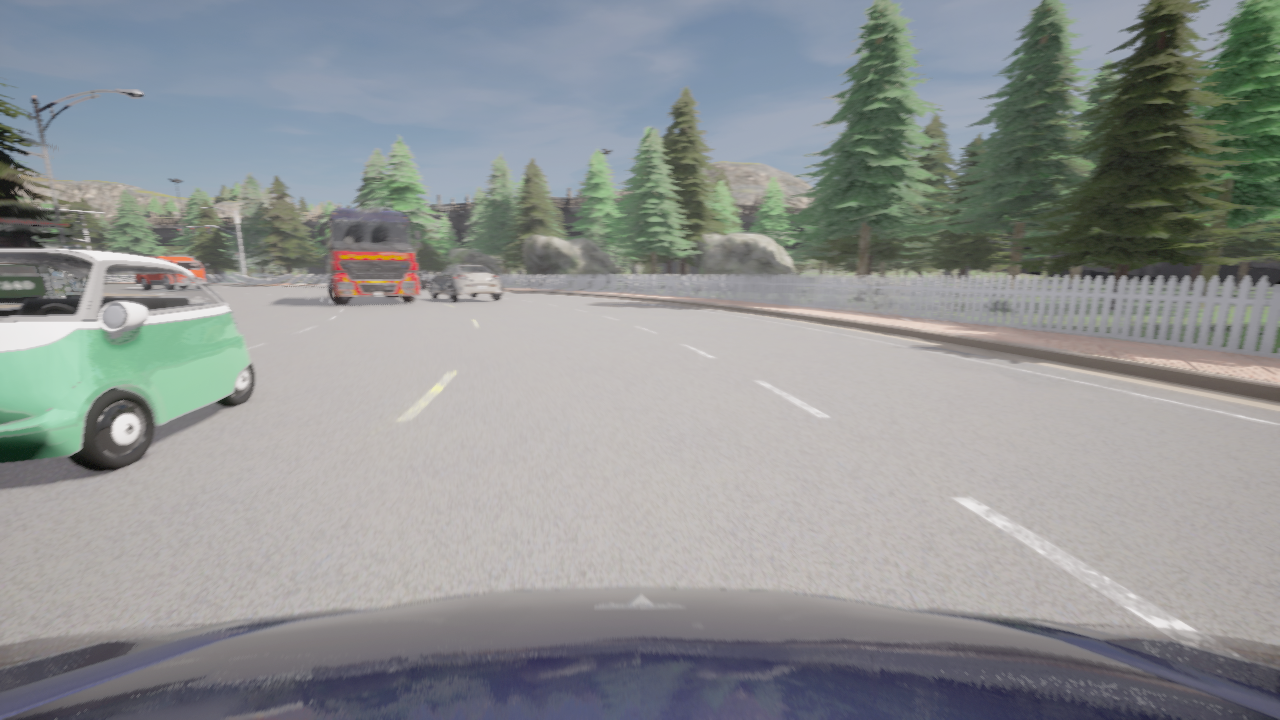cyclist: (0, 588, 1279, 719), (0, 248, 255, 471), (318, 206, 421, 305), (429, 264, 502, 302), (149, 256, 208, 285), (416, 269, 429, 289)
